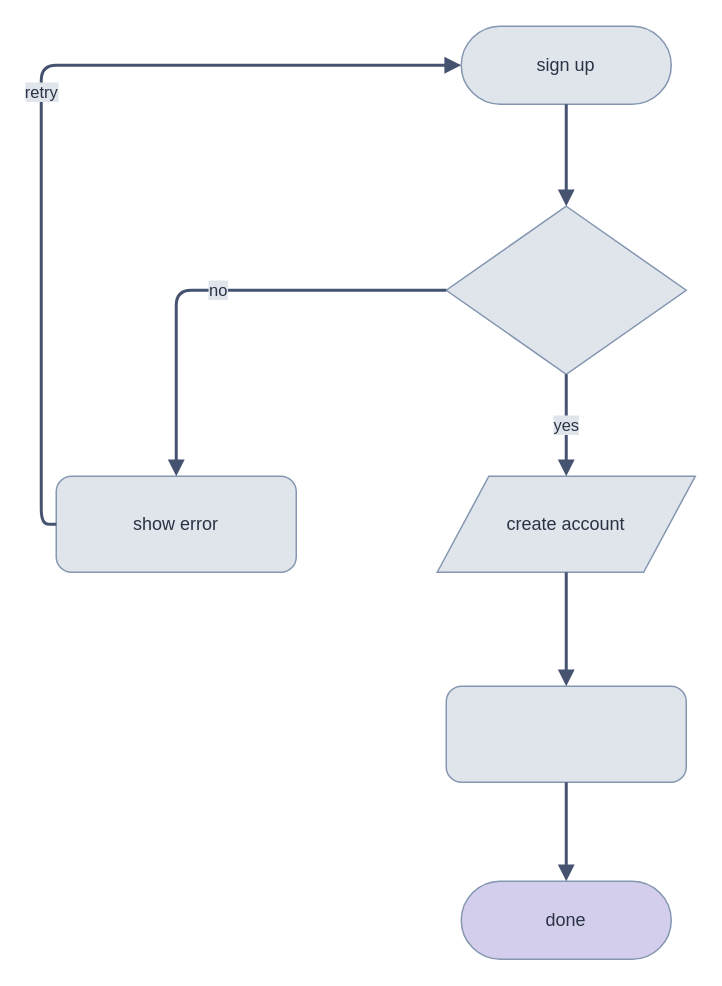
This 722x986 diagram has some shape labels left out. The centre of each missing label's shape, as x and y in pixels:
email valid?: the point at 565,289
send welcome email: the point at 565,733
